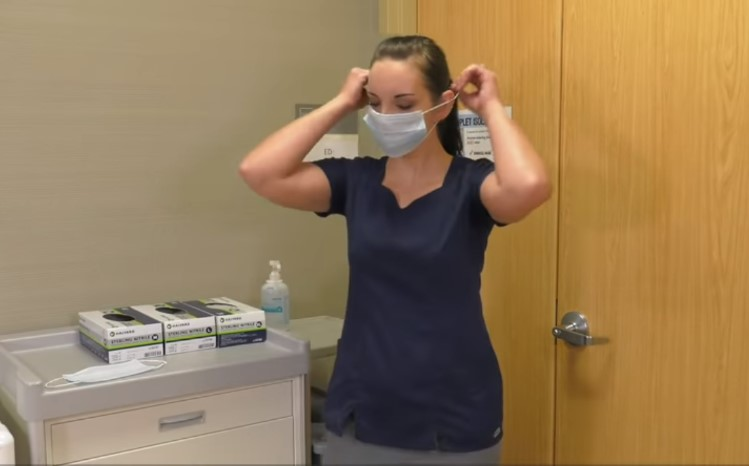face_with_mask: (359, 39, 459, 162)
